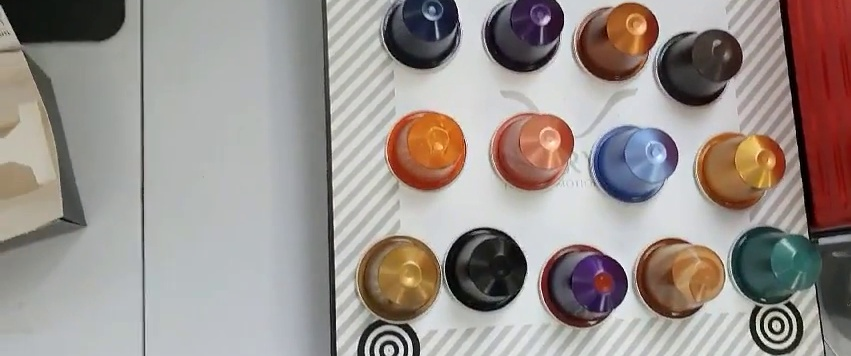capsule_1: (379, 1, 464, 73)
capsule_10: (441, 227, 529, 314)
capsule_11: (537, 243, 629, 331)
capsule_12: (634, 241, 728, 321)
capsule_13: (726, 227, 820, 306)
capsule_2: (480, 1, 563, 76)
capsule_3: (570, 4, 658, 86)
capsule_4: (657, 25, 741, 107)
capsule_5: (385, 110, 464, 194)
capsule_6: (488, 112, 574, 194)
capsule_7: (591, 128, 676, 205)
capsule_8: (695, 128, 782, 209)
capsule_9: (349, 235, 440, 323)
